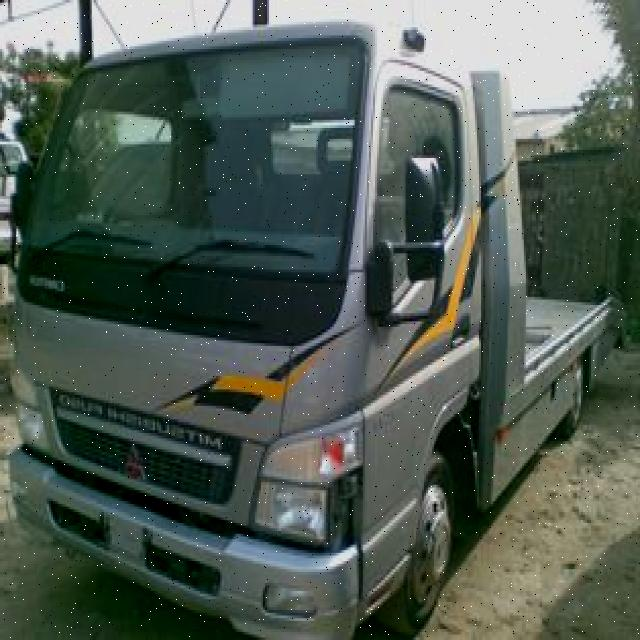truck: (10, 17, 618, 638)
